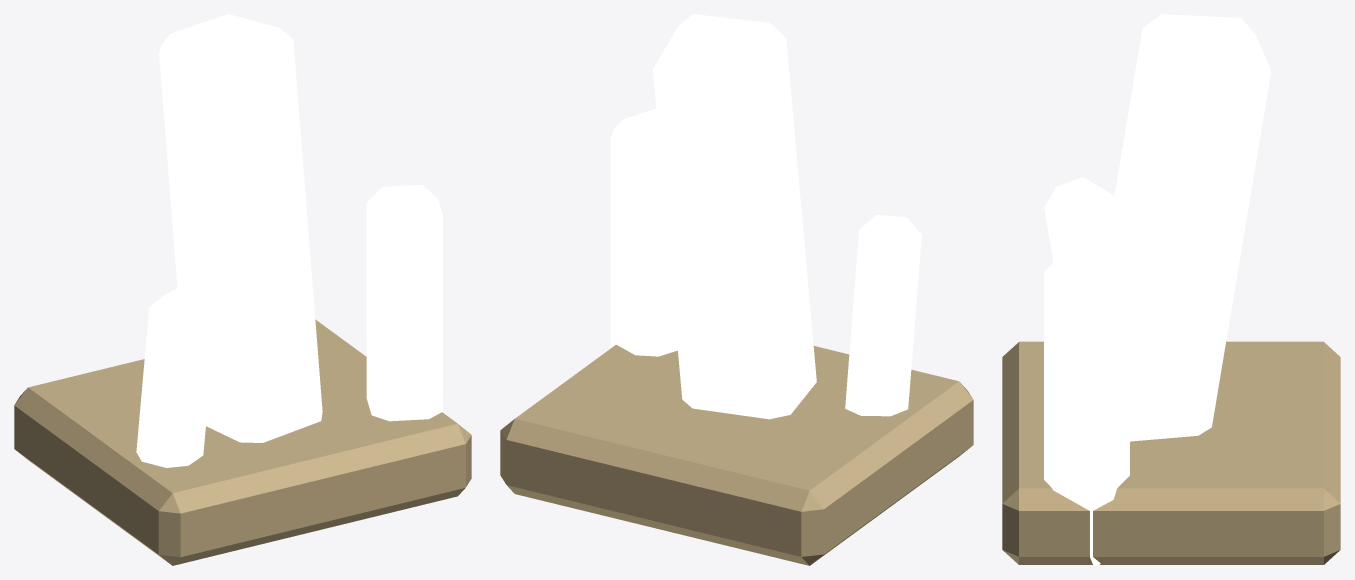
The model's file is IsleCrystal.glb.
The picture shows the model from 3 angles, left to right: view 1: azimuth 30°, elevation 25°; view 2: azimuth 150°, elevation 25°; view 3: azimuth 270°, elevation 25°; orthographic projection. The views are drawn at different scales.
Parts seen in each view (by area): view 1: Glow, Body; view 2: Glow, Body; view 3: Glow, Body.
Part boxes in pixels (x1,y1,x2,y2): Glow: (136, 14, 442, 467); Body: (14, 319, 471, 565); Glow: (610, 14, 921, 419); Body: (500, 344, 973, 565); Glow: (1044, 14, 1271, 565); Body: (1002, 341, 1340, 564).
Size of the model in its own units: 1.8 by 2.44 by 1.6.
